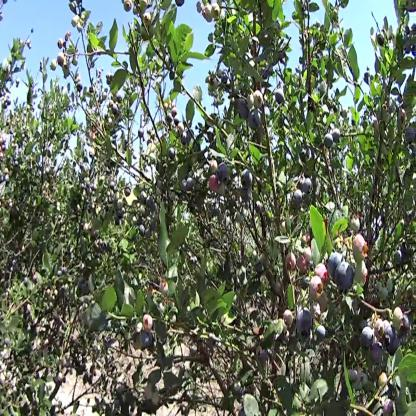intermediate: (311, 263, 328, 299), (284, 253, 309, 272), (142, 314, 154, 334), (209, 175, 218, 193)
mature: (327, 250, 353, 288), (298, 311, 313, 339), (241, 167, 254, 192), (326, 128, 343, 147), (237, 100, 251, 122), (362, 326, 374, 349), (219, 164, 231, 182), (251, 109, 262, 128), (302, 177, 314, 194), (373, 347, 385, 363), (294, 187, 304, 204)
young: (356, 233, 369, 288), (386, 334, 400, 356), (393, 306, 405, 329), (375, 317, 385, 340), (254, 90, 264, 111), (51, 59, 58, 72)
